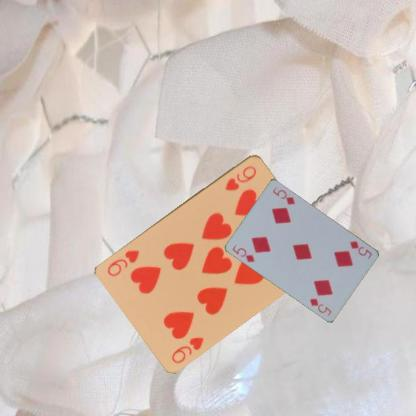5d: (347, 238, 373, 260), (230, 242, 256, 264)
9h: (222, 162, 258, 192), (169, 334, 205, 364)
